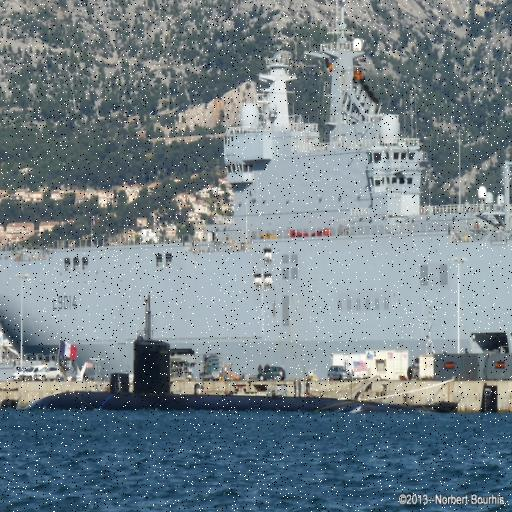submarine: (28, 336, 503, 412)
